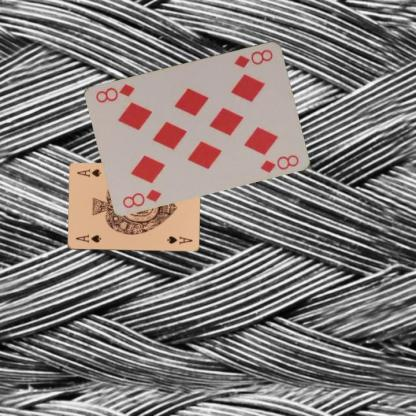8d: (120, 186, 163, 209), (232, 46, 274, 69)
As: (74, 233, 102, 244)
